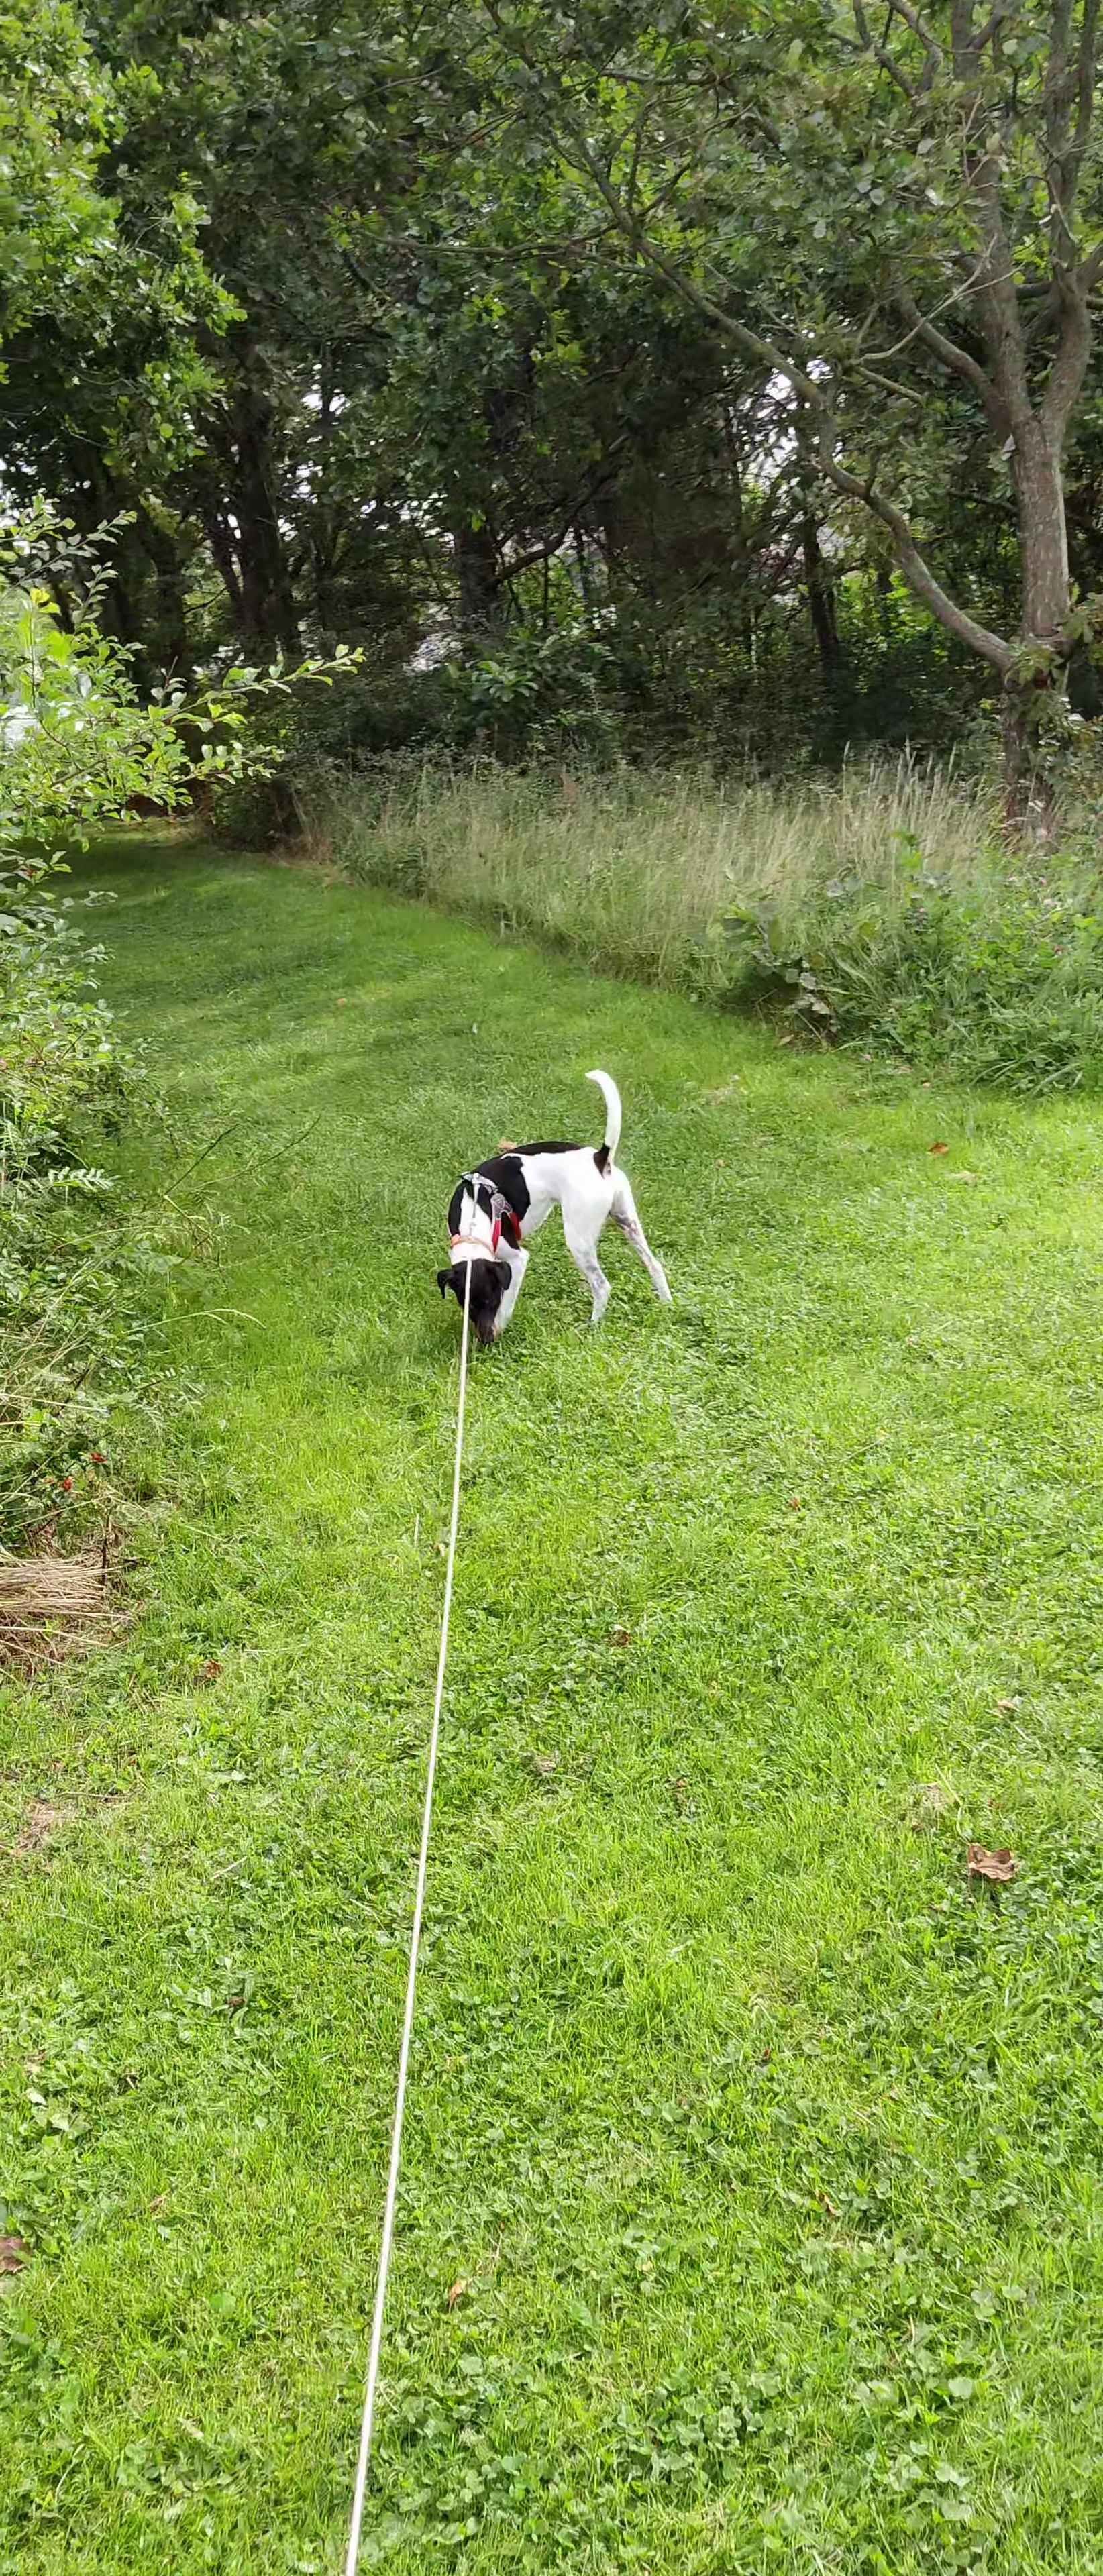Dog: (436, 1066, 674, 1350)
